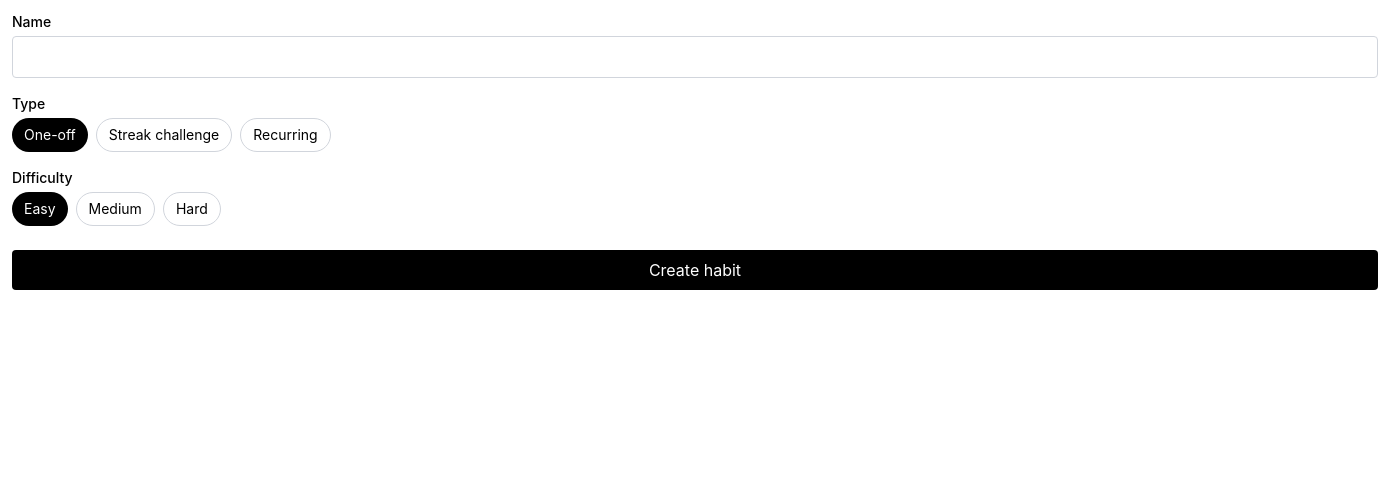
Test case: CreateHabitForm › requires at least one weekday for a recurring days-of-week habit
Type "Gym" into the field labelled "Name" at (695, 57), box [12,36,1378,78]
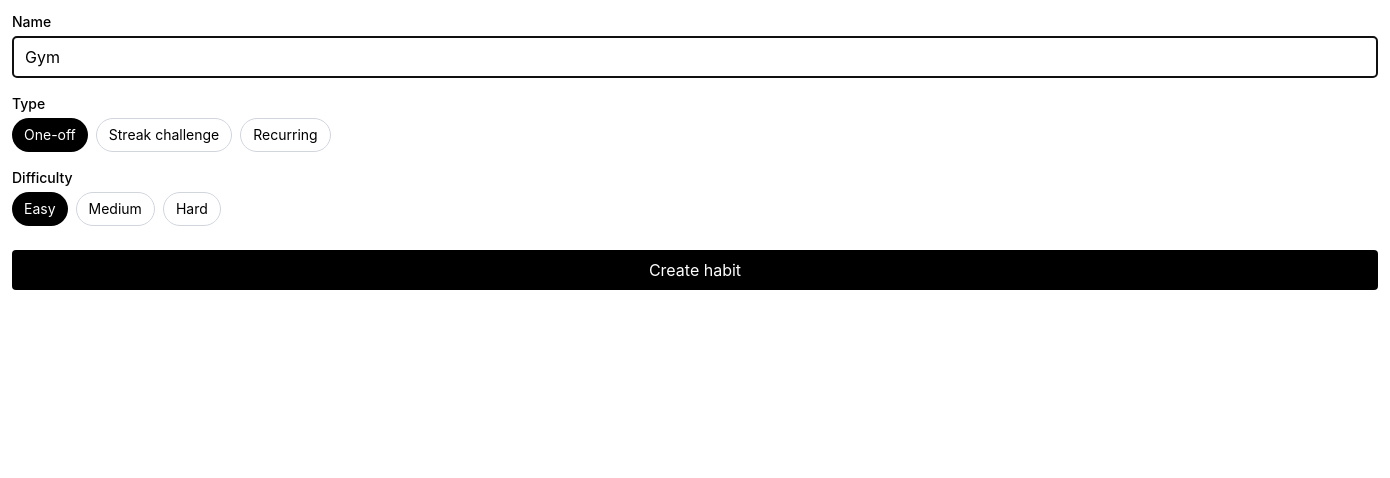
Click the button "Recurring" at (286, 135), box [240,118,331,152]
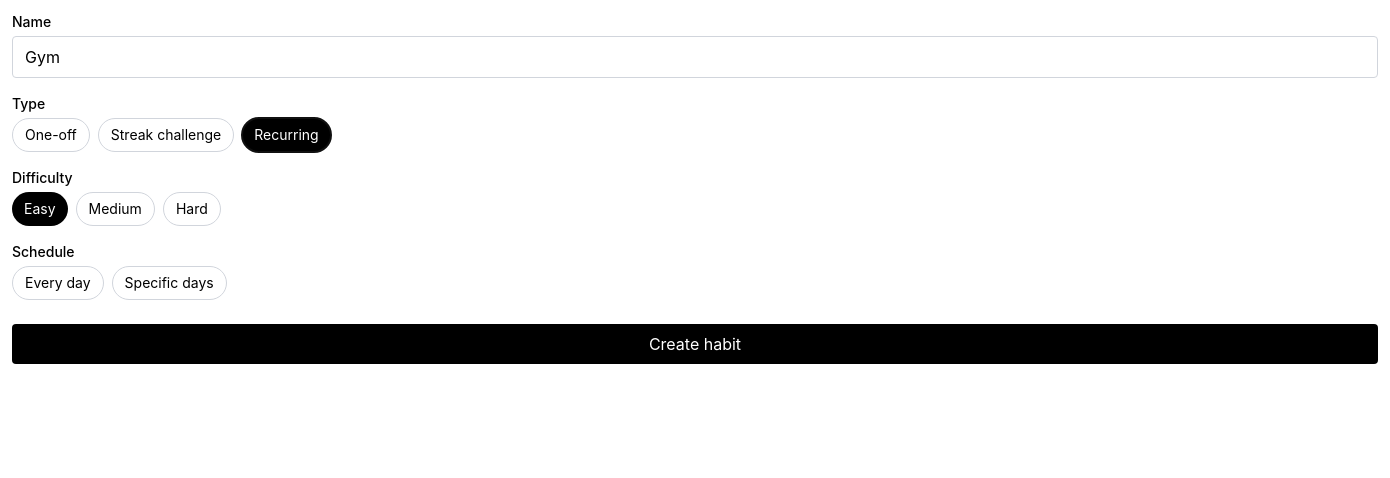
Click the button "Specific days" at (169, 283), box [112,266,227,300]
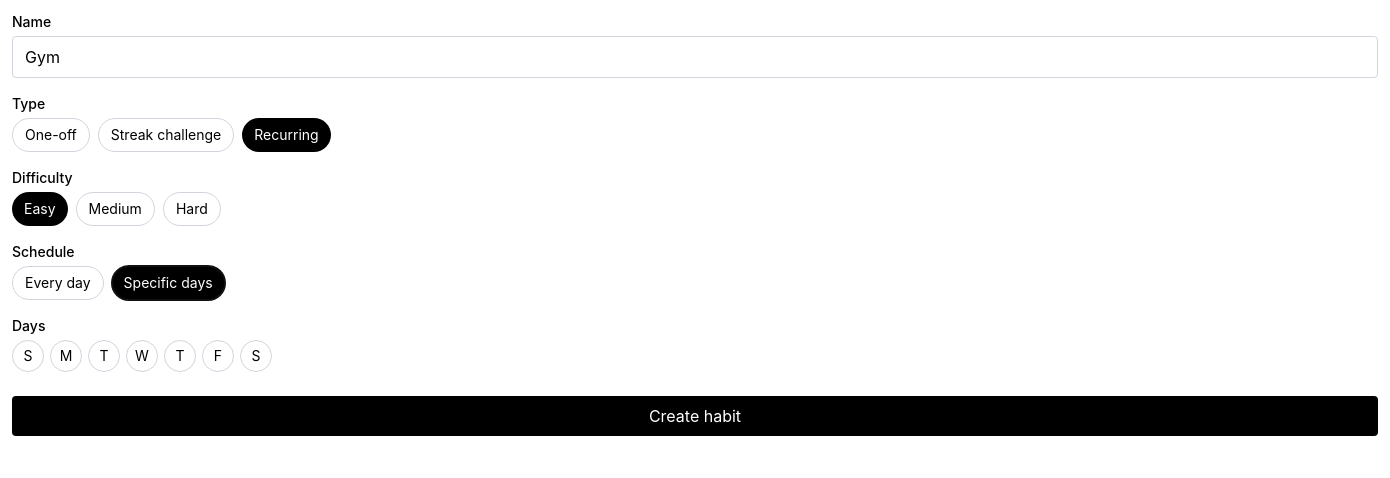
Click the button "Create habit" at (695, 416), box [12,396,1378,436]
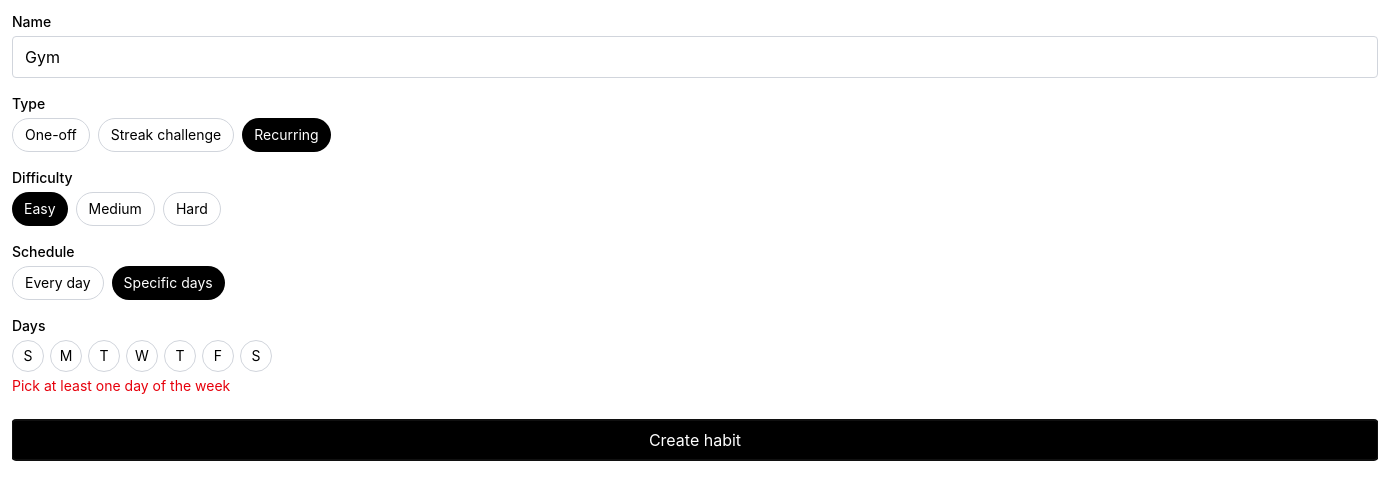
Now the text "Pick at least one day of the week" is shown, box [12,377,230,394]
